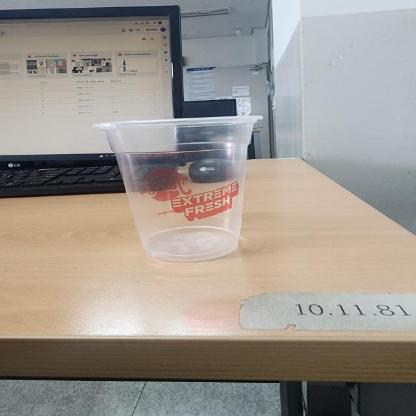Plastic Cup: (91, 114, 268, 260)
